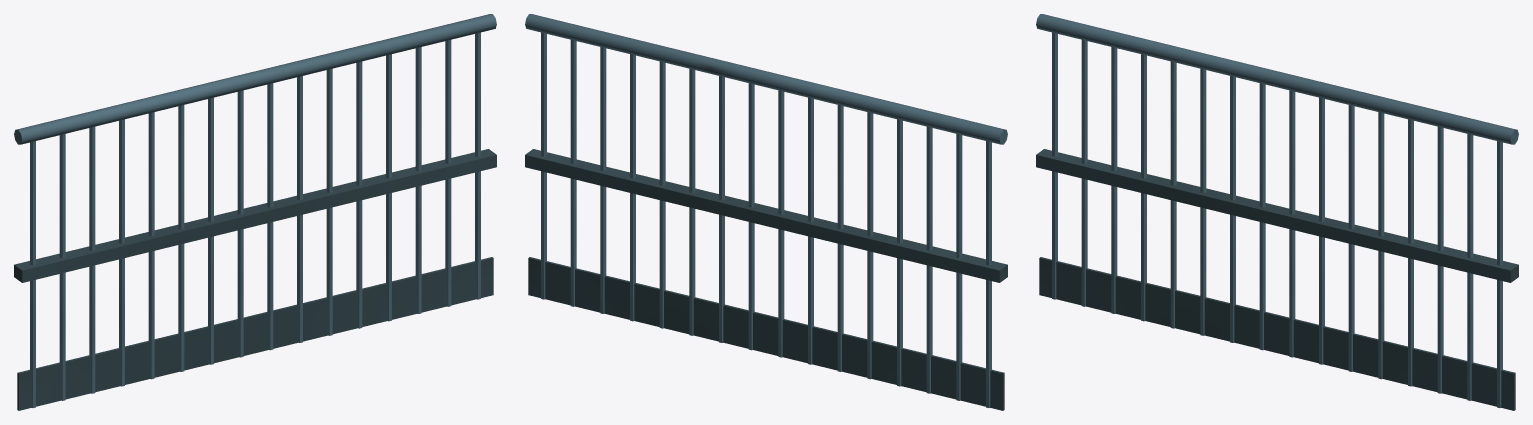
File: railing_gallery.fbx
3 renders of one model, left to right at view 1: azimuth 30°, elevation 25°; view 2: azimuth 150°, elevation 25°; view 3: azimuth 330°, elevation 25°, orthographic.
Parts seen in each view (by area): view 1: railing_gallery; view 2: railing_gallery; view 3: railing_gallery.
Boxes of the visible parts, x1=… form: railing_gallery: x1=14, y1=14, x2=496, y2=410; railing_gallery: x1=525, y1=14, x2=1007, y2=410; railing_gallery: x1=1036, y1=14, x2=1518, y2=410.
Bounding box in the file's own units: 2 × 1.13 × 0.06.
Materials: 1 (1 with a texture image).
